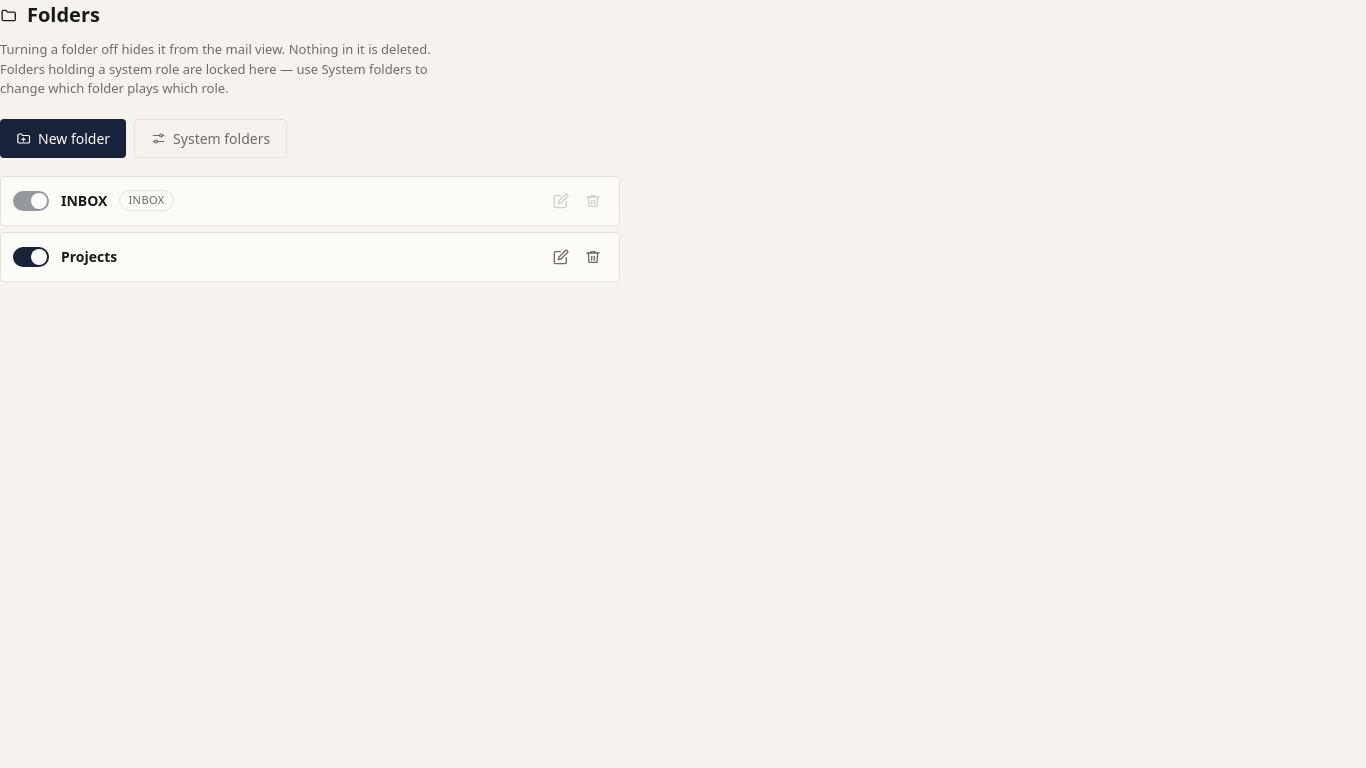
FoldersPage › opens the system-folders dialog and closes it again
Expected: the checkbox named "Show Projects" is shown, [13, 246, 49, 266]
Click the button "System folders": click(211, 138) [134, 118, 287, 158]
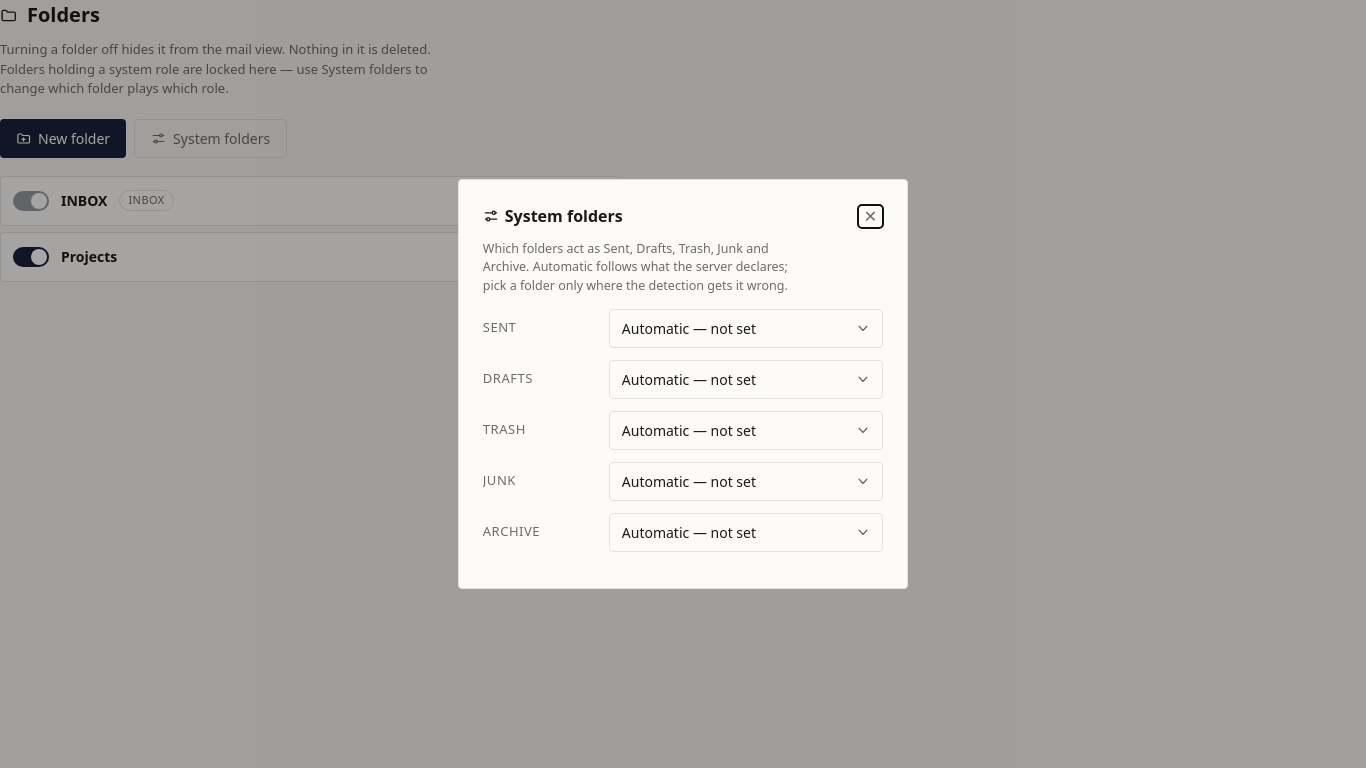
Expected: the dropdown named "Trash" is shown, [609, 411, 883, 450]
Click the button named "Close": click(870, 216) [858, 205, 883, 228]
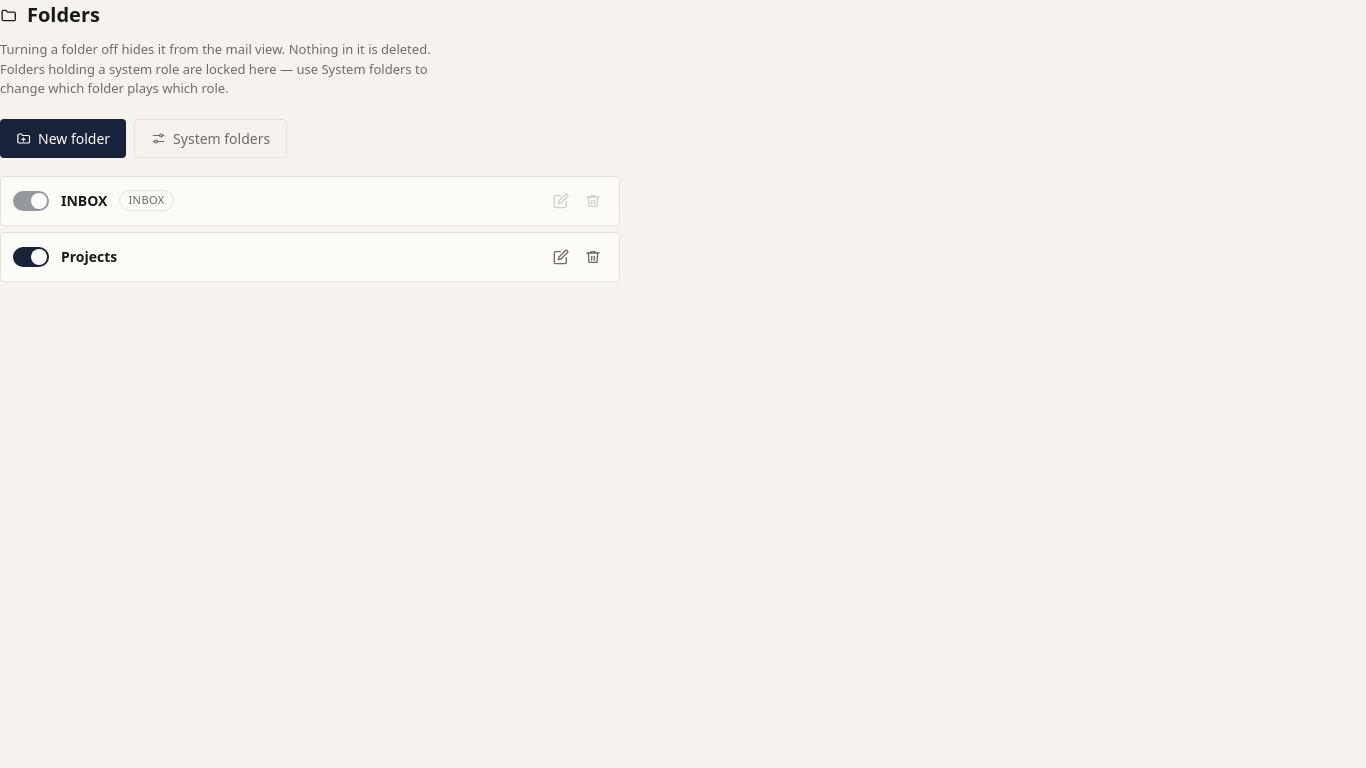
Expected: the text labelled "Trash" is gone
